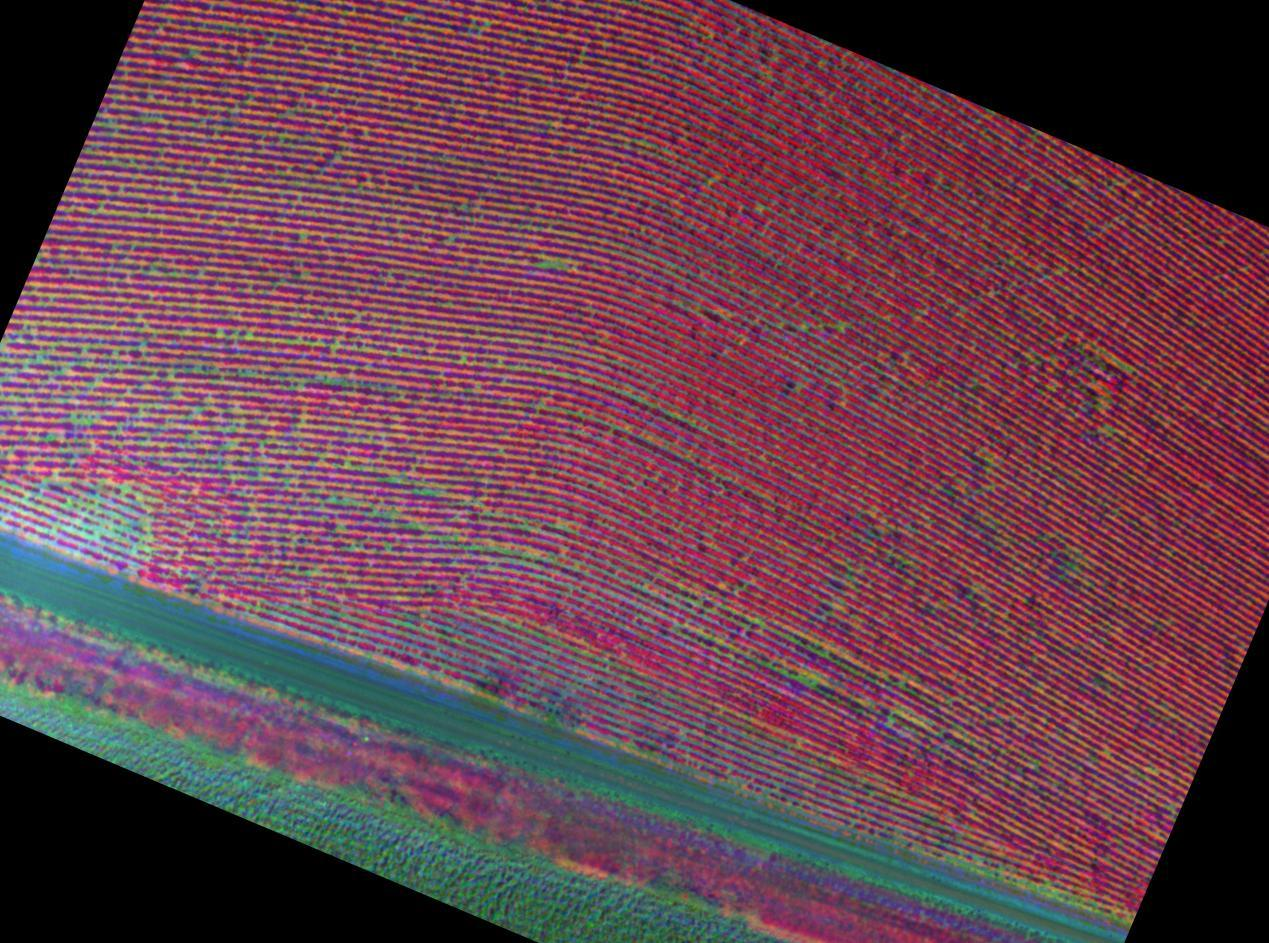dc: (140, 521, 146, 528), (1122, 365, 1127, 370), (838, 323, 843, 327)
